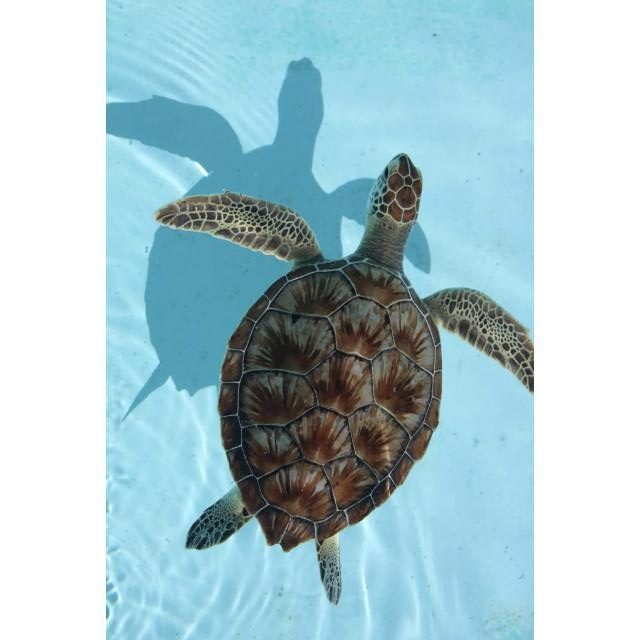turtle: (152, 151, 531, 606)
